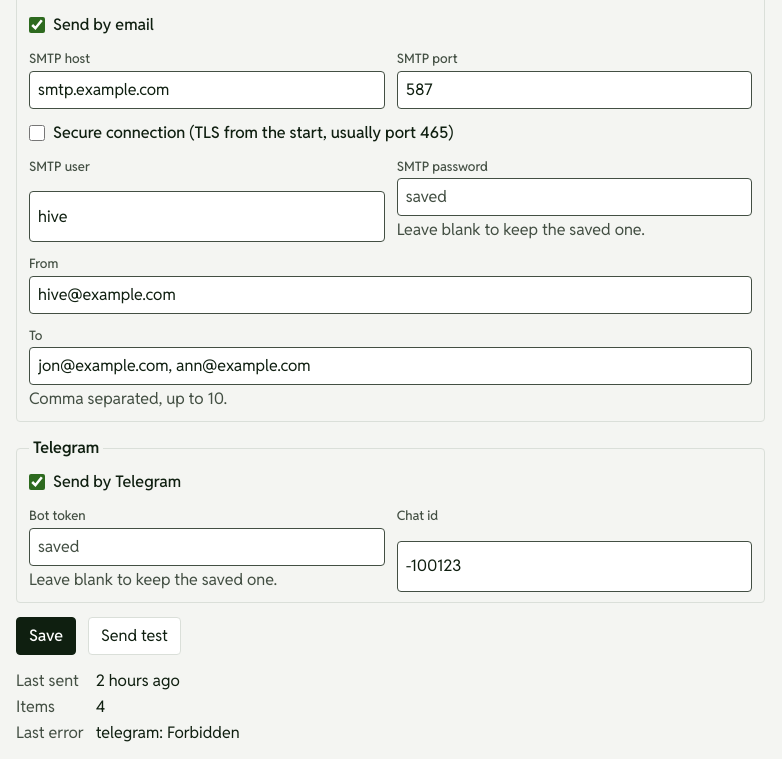
Scenario: settings page › leaves a blank secret out of the PUT, and sends a typed one
This screenshot has width=782, height=759.
(page scrolled)
Type "123:new-token" into the password field labelled "Bot token" at {"x": 207, "y": 546}, box [29,528,385,566]
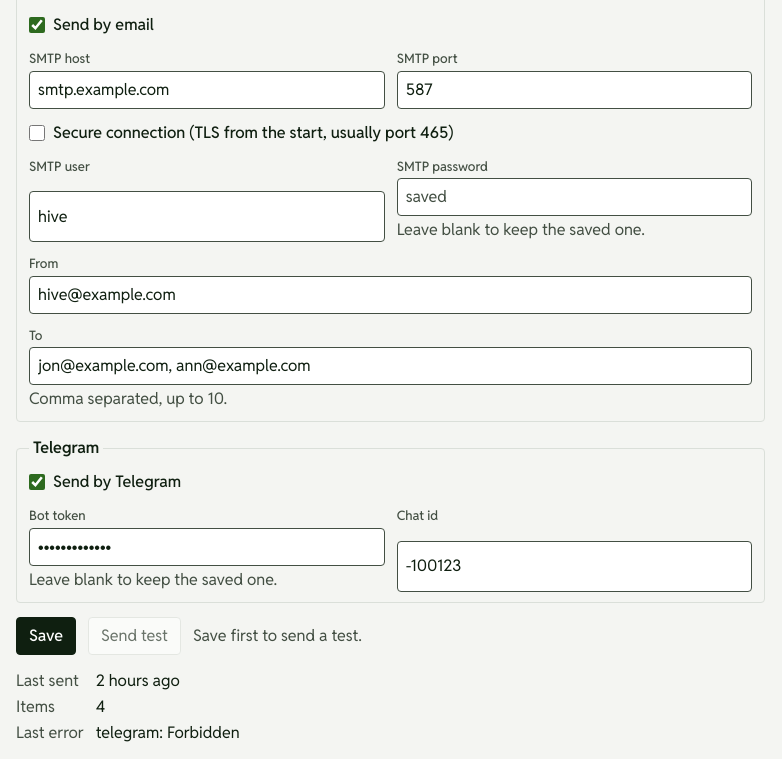
Click the button "Save" at {"x": 46, "y": 636}, box [16,616,76,654]
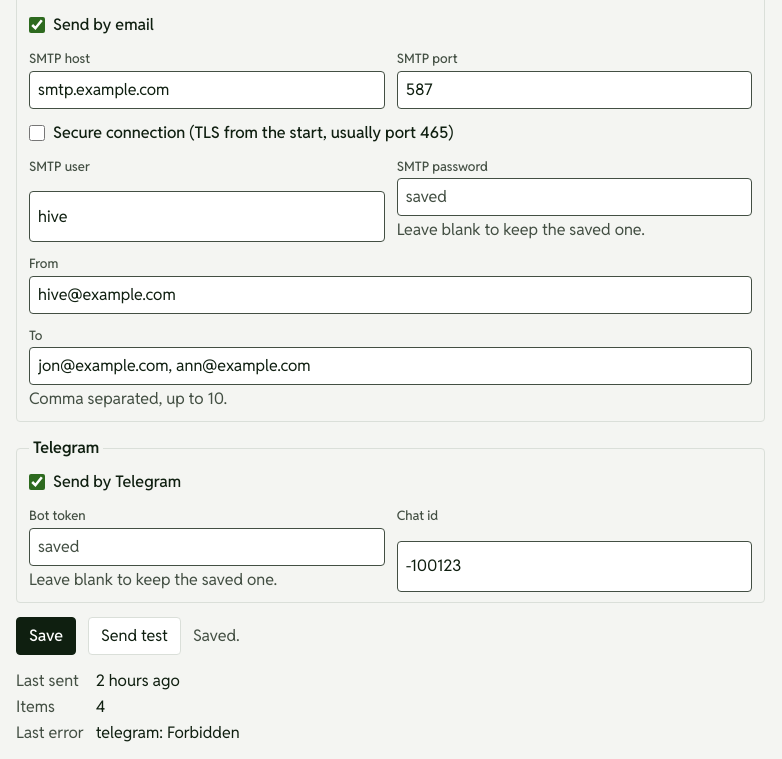
Now the message "Saved." is shown, box [193,624,239,648]
Now the password field labelled "Bot token" is empty, box [29,528,385,566]
